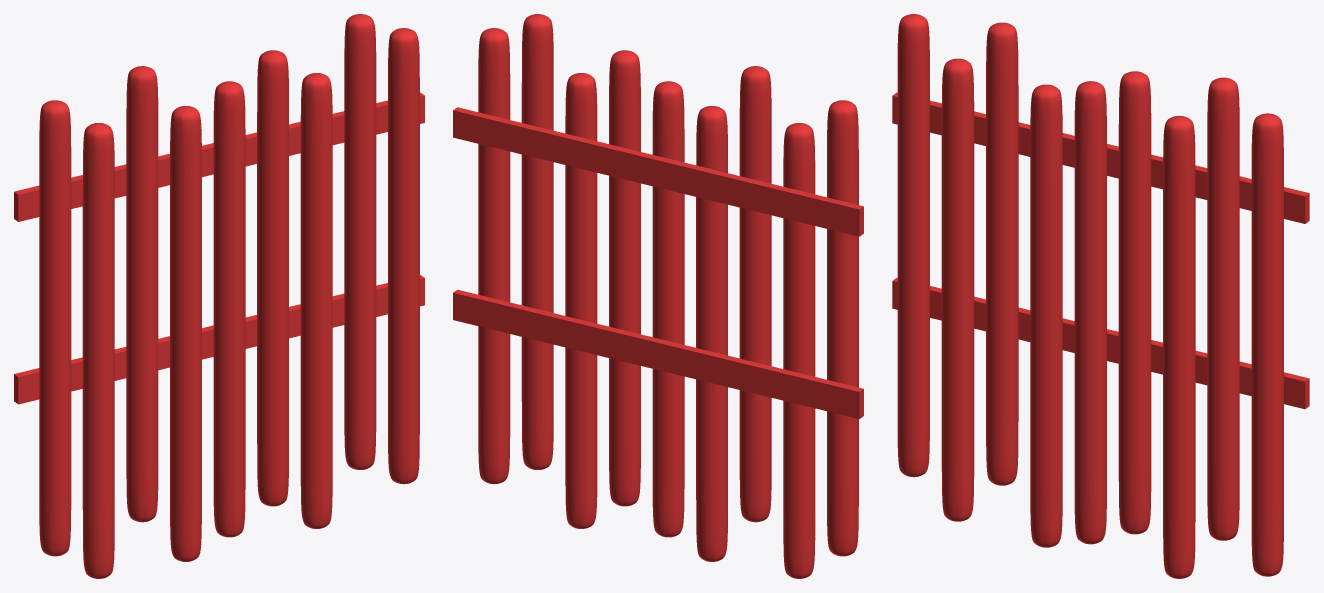
Rendered from Fence3.fbx.
3 views of the same model, side by side, from view 1: azimuth 30°, elevation 25°; view 2: azimuth 150°, elevation 25°; view 3: azimuth 330°, elevation 25° (orthographic).
Parts seen in each view (by area): view 1: Cylinder, Cube.001; view 2: Cylinder, Cube.001; view 3: Cylinder, Cube.001.
Part boxes in pixels (x1,y1,x2,y2): Cylinder: (39,14,419,578); Cube.001: (14,92,424,404); Cylinder: (478,14,858,578); Cube.001: (453,107,863,418); Cylinder: (897,14,1283,578); Cube.001: (892,92,1309,409).
Bounding box in the file's own units: 933 × 1102 × 80.46.
